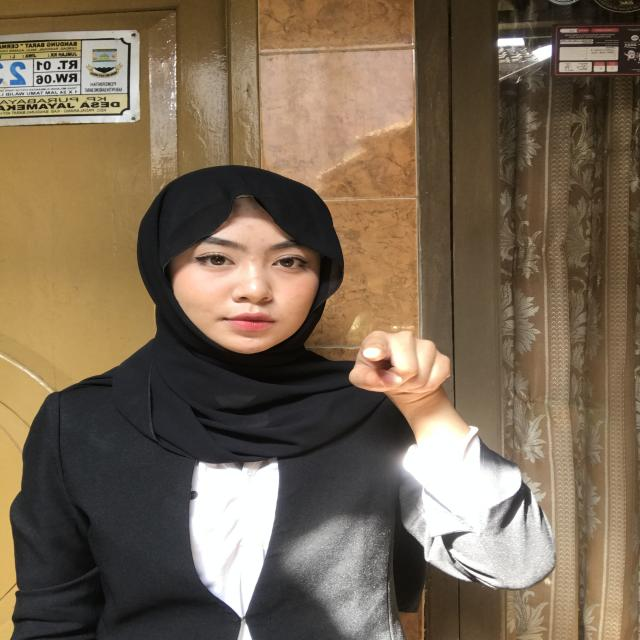kamu: (321, 315, 454, 410)
